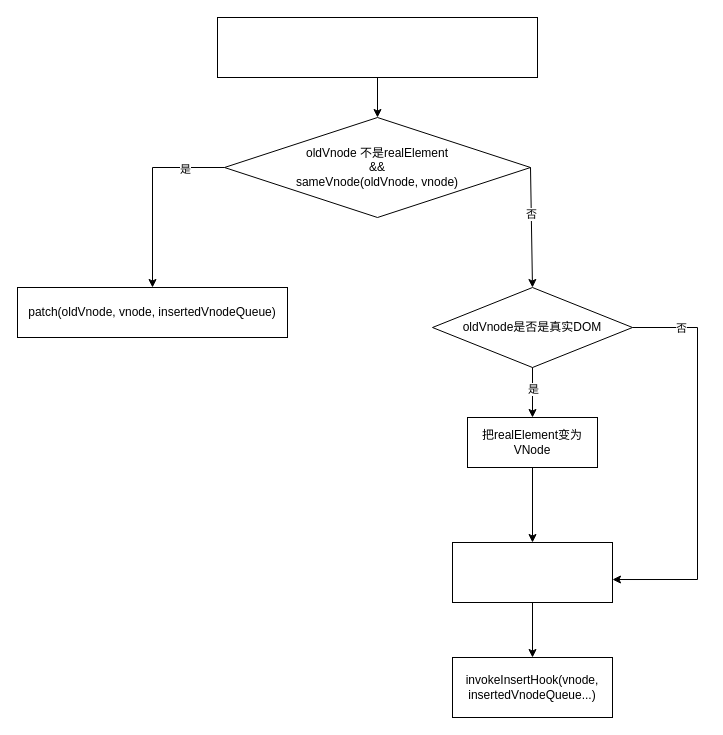
This 723x735 diagram has some shape labels left out. The centre of each missing label's shape, as x and y in pixels:
"createElm(vnode, insertedVnodeQueue...)" goes at (x=532, y=572).
"patch(oldVnode, vnode)" goes at (x=377, y=47).
